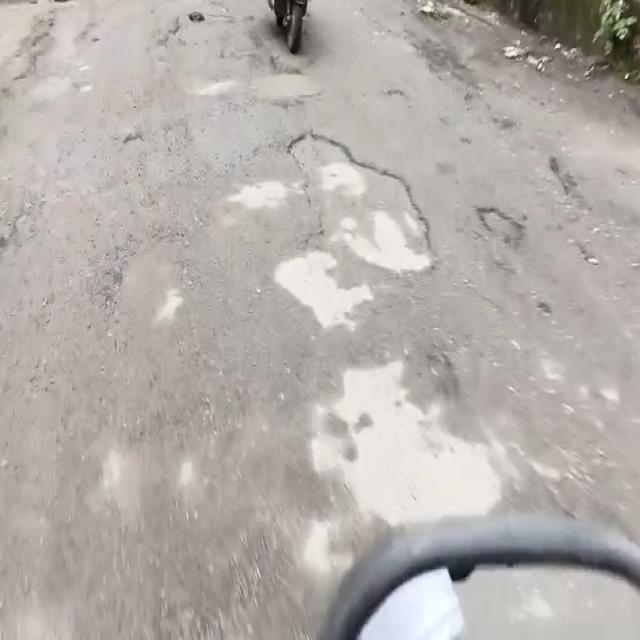road-pothole: (286, 135, 439, 271), (161, 11, 322, 111)
